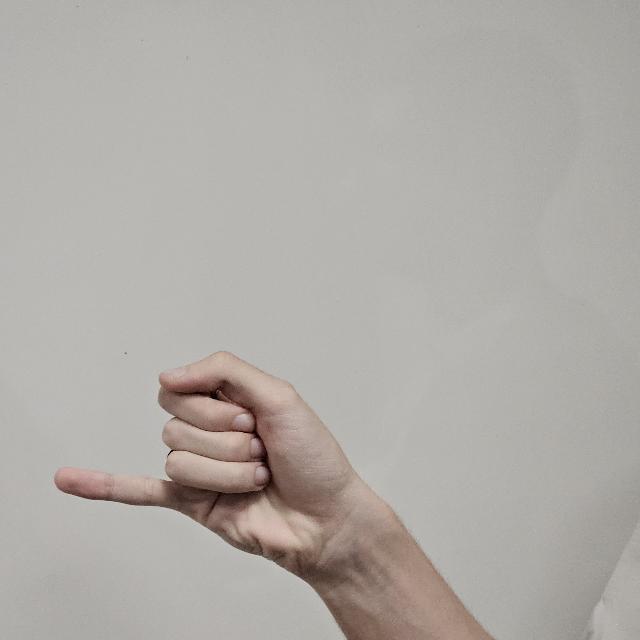Esquerda: (49, 334, 359, 588)
